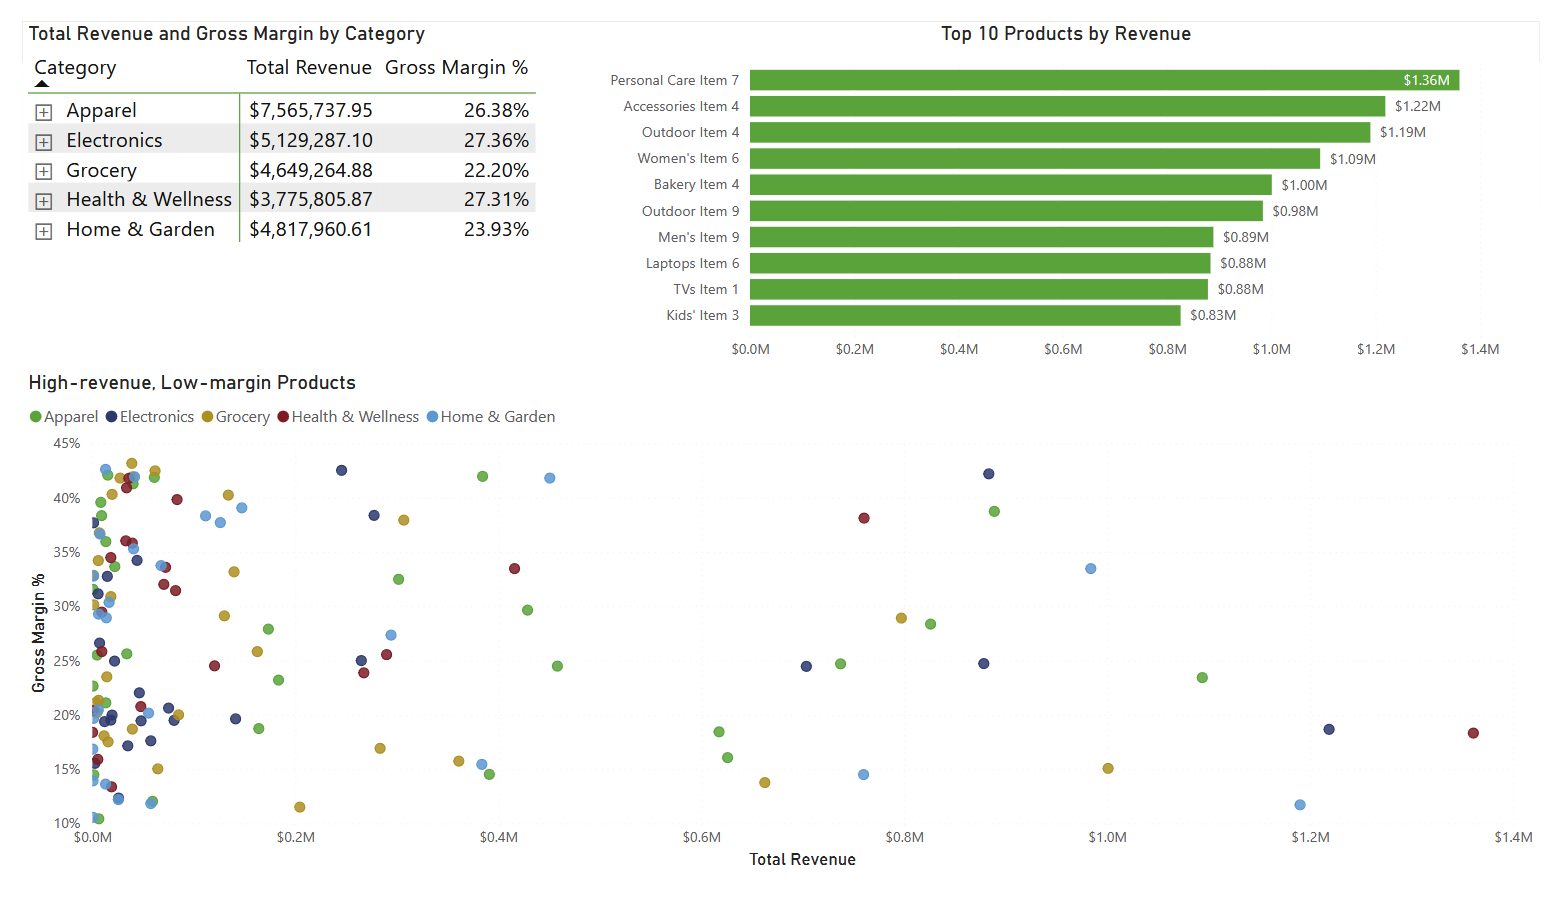

The dashboard page shown, as its layout file describes it:
{"tool":"powerbi","page":{"name":"Product Performance","canvas":[1280,720],"ordinal":1},"visuals":[{"type":"pivotTable","title":"Total Revenue and Gross Margin by Category","fields":{"Rows":["products.Category","products.SubCategory","products.ProductName"],"Values":["_Measures.Total Revenue","_Measures.Gross Margin %"]},"box":[22,39,448,277],"z":0},{"type":"clusteredBarChart","title":"Top 10 Products by Revenue","fields":{"Category":["products.ProductName"],"Y":["_Measures.Total Revenue"]},"box":[640,39,640,277],"z":1000},{"type":"scatterChart","title":"High-revenue, Low-margin Products","fields":{"X":["_Measures.Total Revenue"],"Y":["_Measures.Gross Margin %"],"Category":["products.ProductName"],"Series":["products.Category"]},"box":[12,316,1249,404],"z":2000},{"type":"slicer","fields":{"Values":["Dim_Date.Year"]},"box":[470,0,170,65],"z":2001}]}

Visuals, with their boxes in screenshot pixels (x1, y1, x2, y2), scaled from the page's 1280x720 canvas onto the 1561x898 screenshot:
"Total Revenue and Gross Margin by Category" pivotTable: {"x1": 27, "y1": 49, "x2": 573, "y2": 394}
"Top 10 Products by Revenue" clusteredBarChart: {"x1": 780, "y1": 49, "x2": 1560, "y2": 394}
"High-revenue, Low-margin Products" scatterChart: {"x1": 15, "y1": 394, "x2": 1538, "y2": 897}
slicer - Dim_Date.Year: {"x1": 573, "y1": 0, "x2": 780, "y2": 81}
